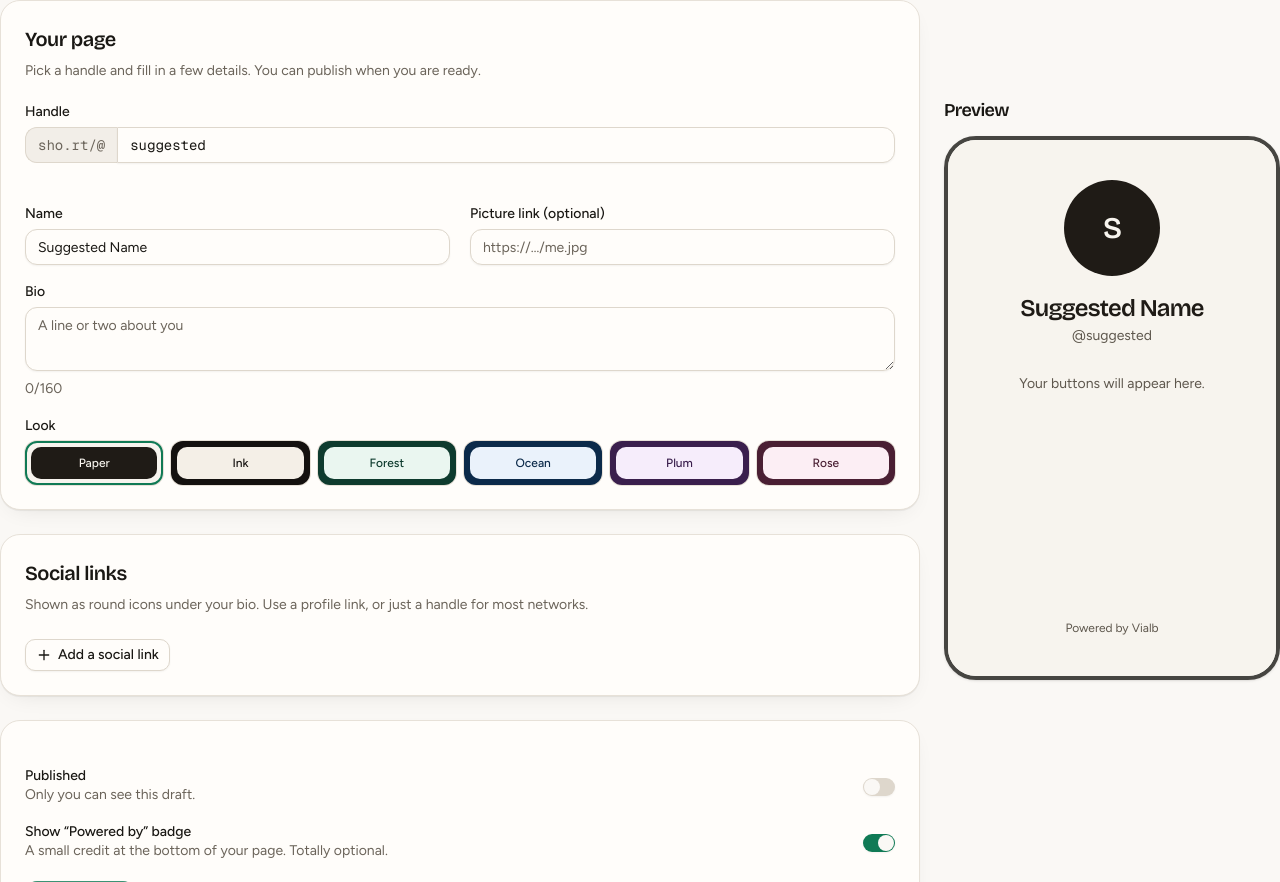
Test: BioEditor before a page exists › saves, drops blank social rows, and unlocks the buttons
Click the button "Add a social link" at (97, 655), box [25,639,170,671]
(page scrolled)
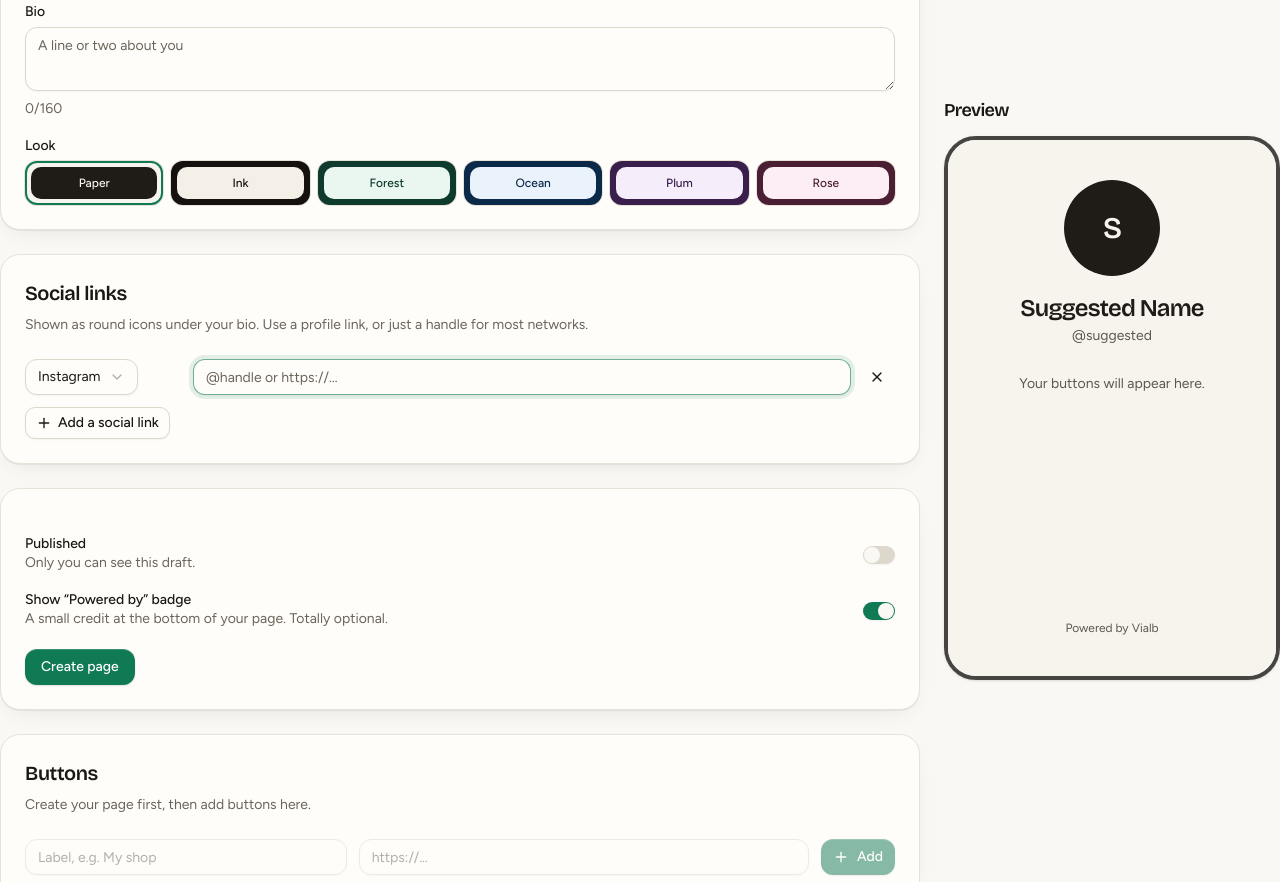
Click the button with test id "bio-save" at (80, 667), box [25,649,135,685]
(page scrolled)
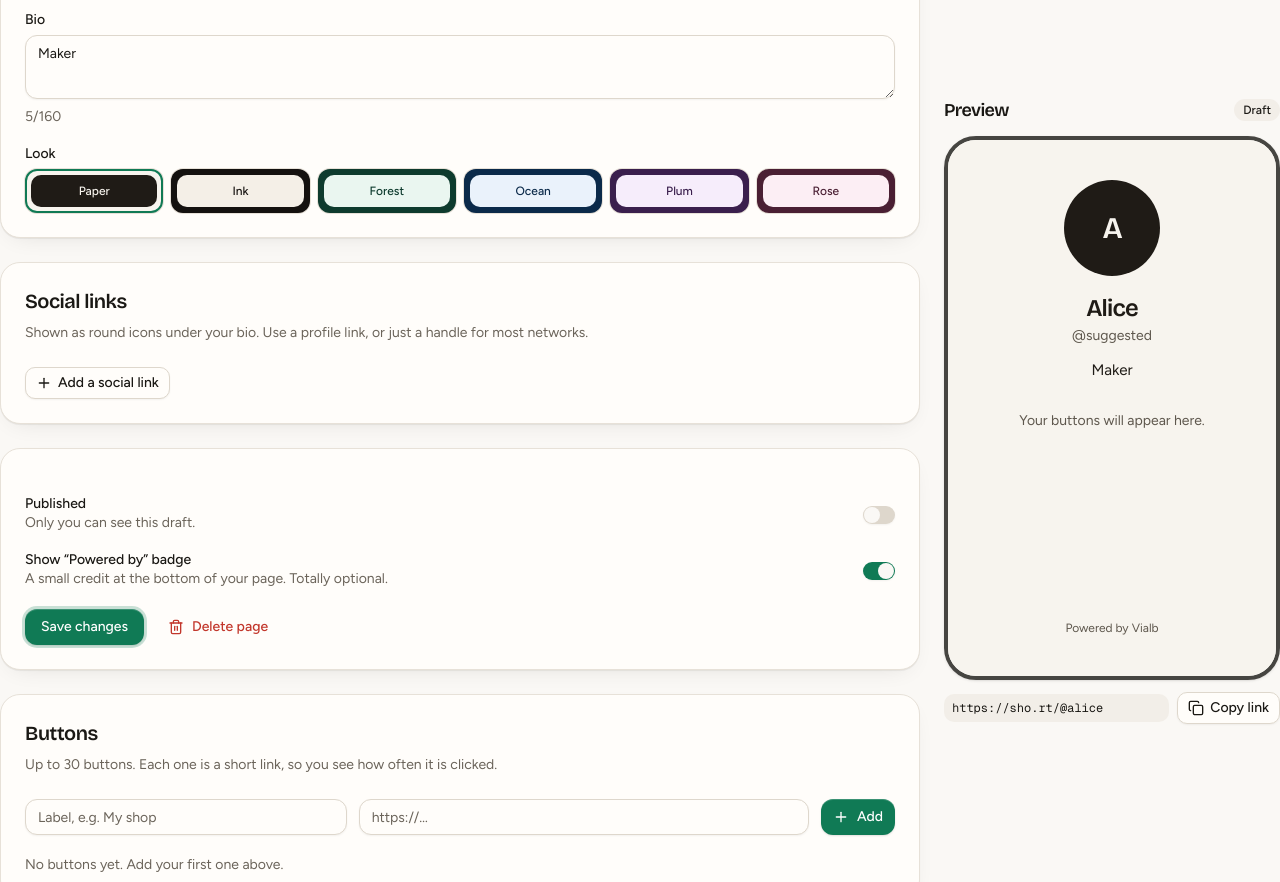
Result: the field named "Button label" is enabled at [25,799,347,835]
Result: the button with test id "bio-save" reads "Save changes" at [25,609,144,645]
